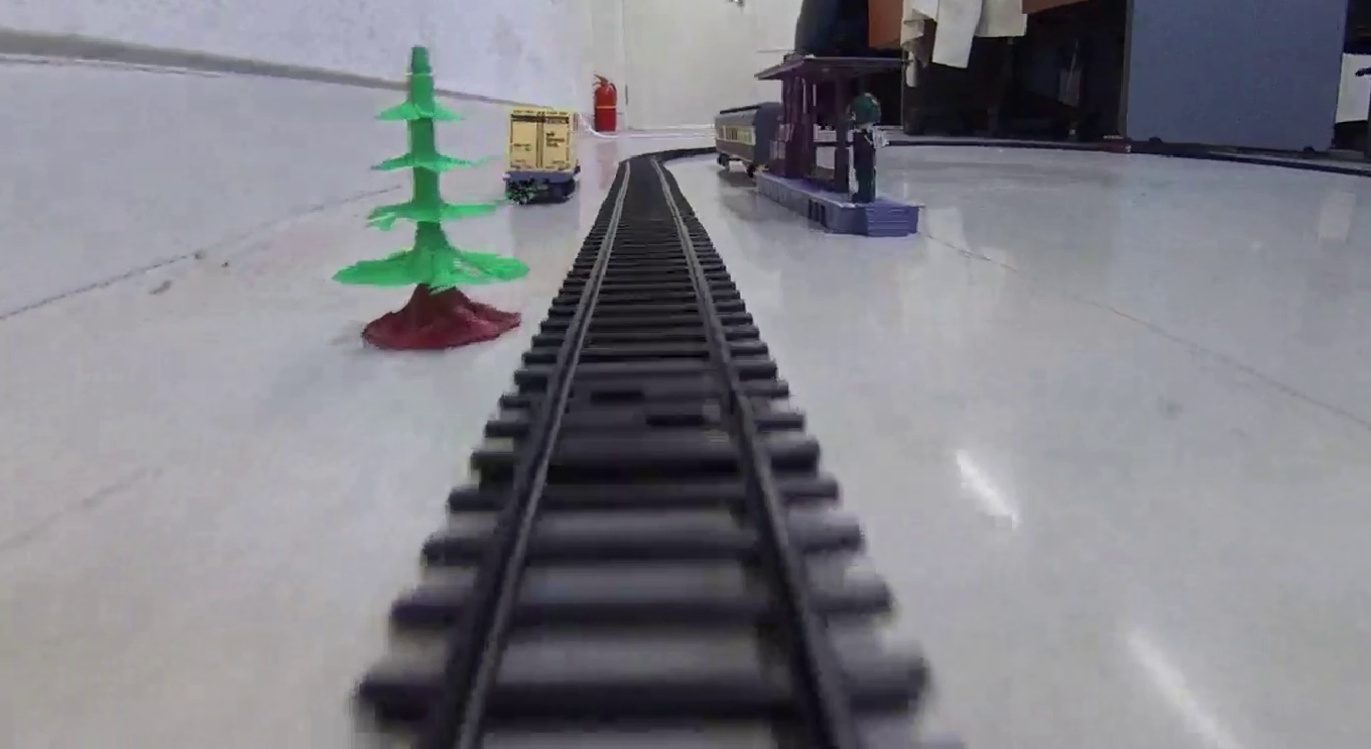tree: (333, 47, 523, 353)
